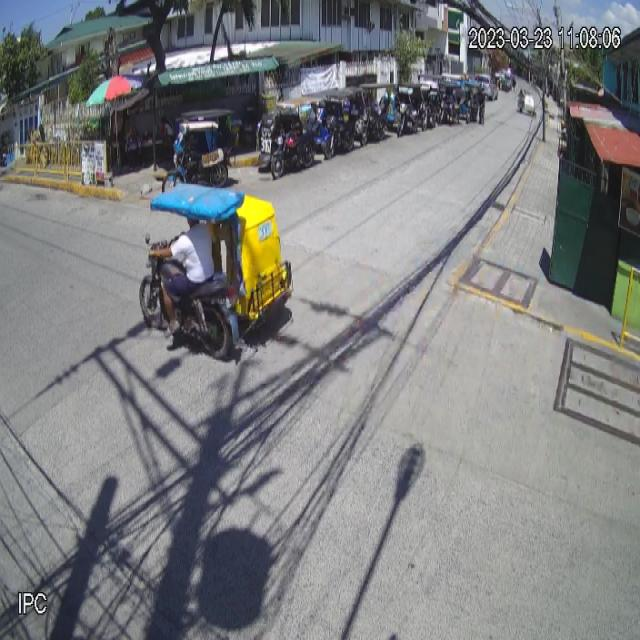Tricycle: (138, 181, 294, 360)
